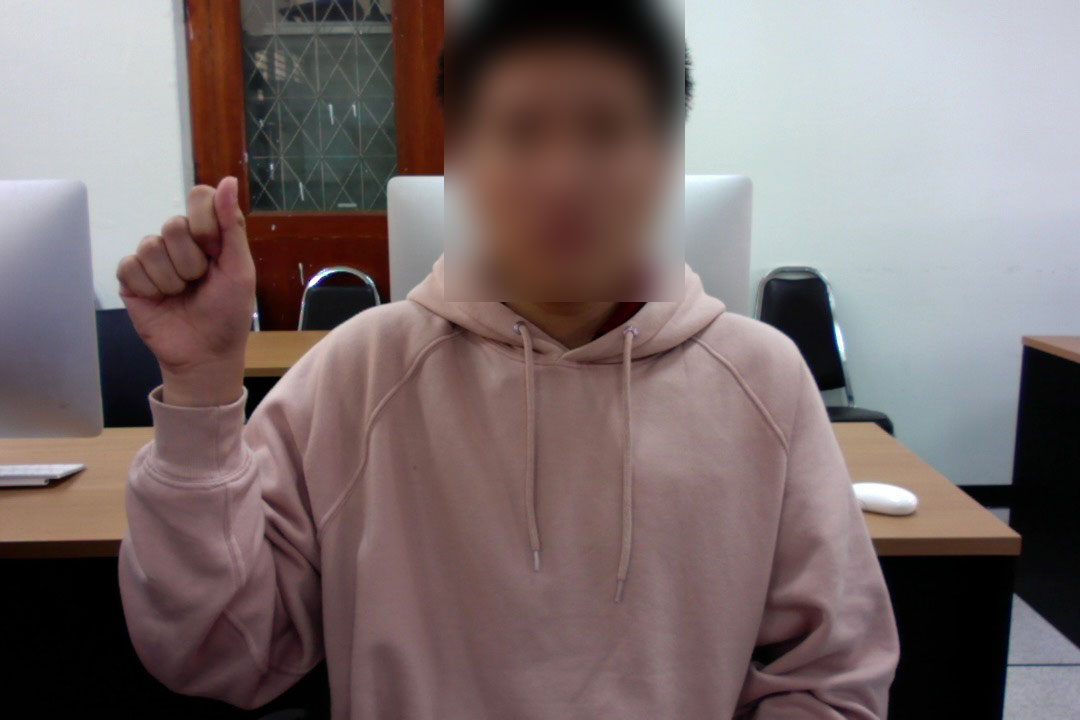or: (112, 172, 262, 379)
